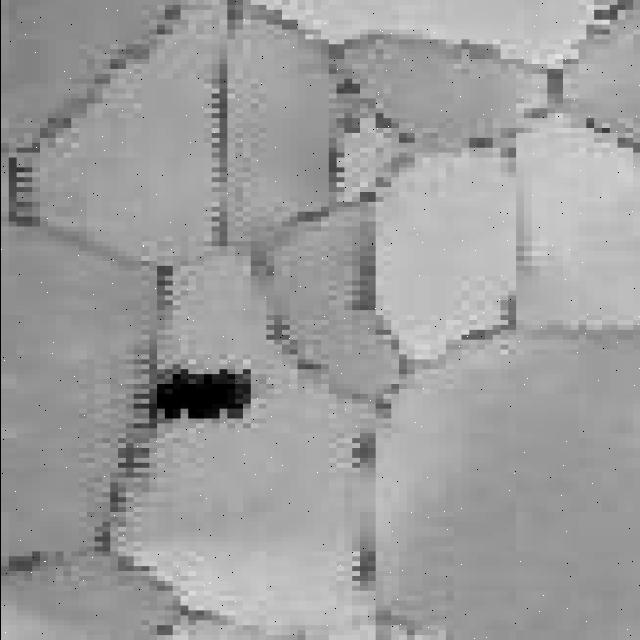good_void: (131, 359, 265, 427)
